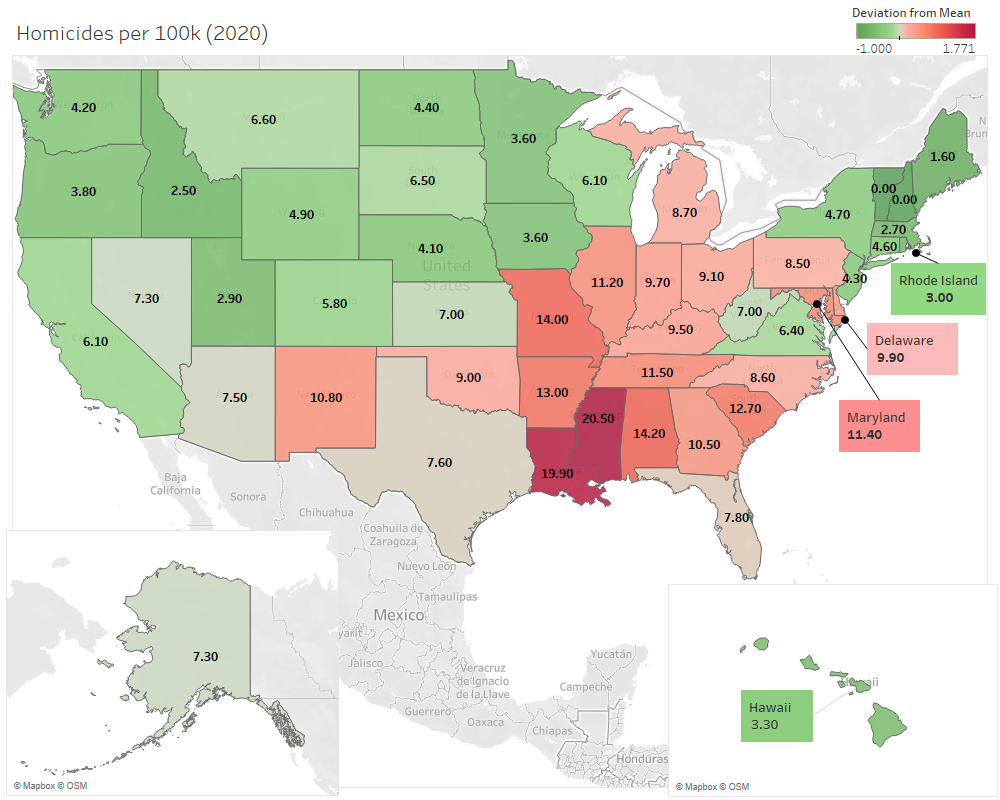

The page's visual inventory and layout, read from the dashboard file:
{"tool":"tableau","page":{"name":"Earnest","canvas":[1000,800],"ordinal":1},"visuals":[{"type":"legend","title":"Homicides per 100k (2020)","param":"[federated.09fihx51a9v56z1584d8q0ivzfdu].[sum:diff_from_mean:qk]","box":[852,0,128,55]},{"type":"worksheet","title":"Homicides per 100k (2020)","mark":"Multipolygon","box":[8,8,984,784]},{"type":"worksheet","title":"Ear(AK)","mark":"Multipolygon","box":[6,530,333,266]},{"type":"worksheet","title":"Ear(HI)","mark":"Multipolygon","box":[668,584,330,213]}]}

Visuals, with their boxes in screenshot pixels (x1, y1, x2, y2), scaled from the page's 1000x800 canvas onto the 1000x800 screenshot:
"Homicides per 100k (2020)" legend: 852/0/980/55
"Homicides per 100k (2020)" worksheet (Multipolygon marks): 8/8/992/792
"Ear(AK)" worksheet (Multipolygon marks): 6/530/339/796
"Ear(HI)" worksheet (Multipolygon marks): 668/584/998/797
